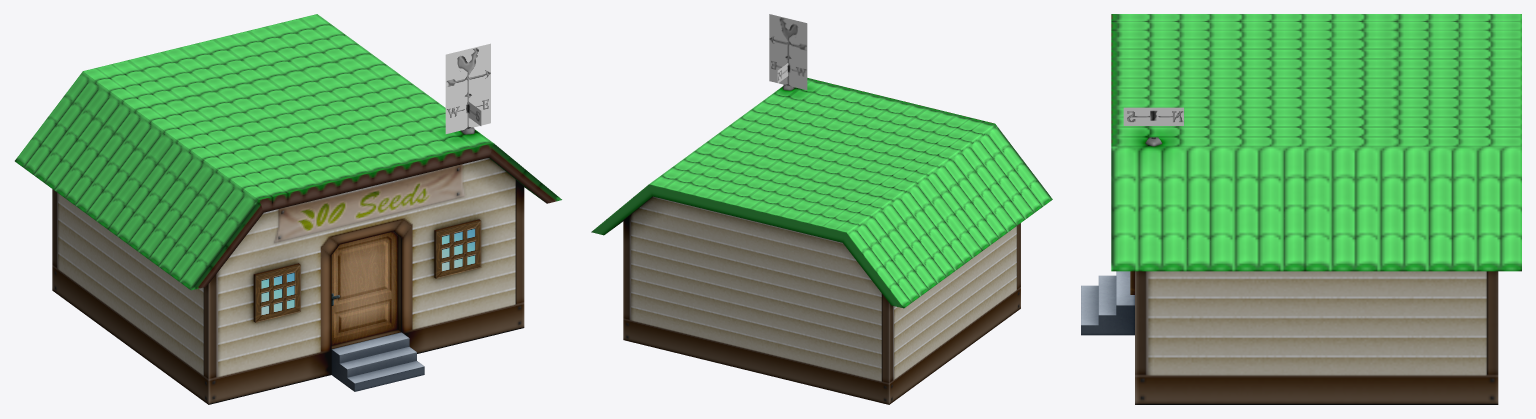
File: seed_store.fbx
The picture shows the model from 3 angles, left to right: view 1: azimuth 30°, elevation 25°; view 2: azimuth 150°, elevation 25°; view 3: azimuth 270°, elevation 25°; orthographic projection. The views are drawn at different scales.
Visible parts, largest first — view 1: seed_store_geo, seed_store_door_geo; view 2: seed_store_geo; view 3: seed_store_geo.
Part boxes in pixels (x1,y1,x2,y2): seed_store_geo: (15,14,561,404); seed_store_door_geo: (331,232,397,345); seed_store_geo: (591,14,1052,404); seed_store_geo: (1081,14,1521,404).
Size of the model in its own units: 8.24 by 6.03 by 7.28.
Materials: 2 (2 with a texture image).
